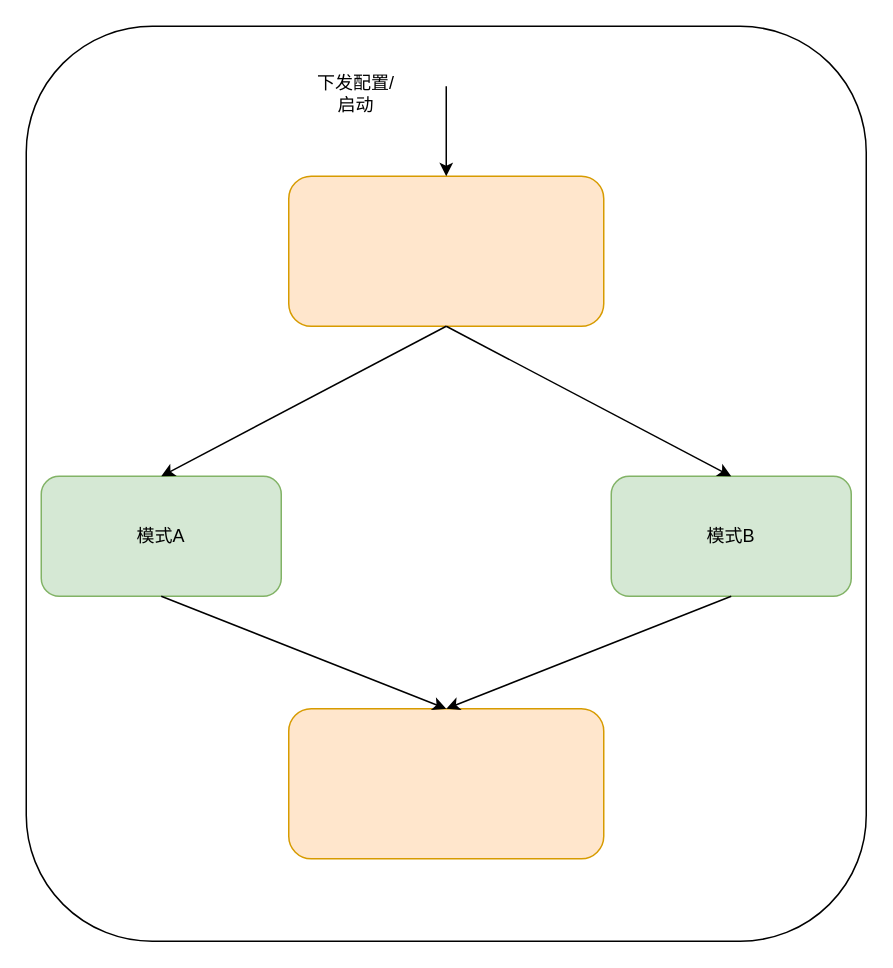
The diagram is 893 pixels wide and 968 high, and some of its shapes have lost their labels. The centre of each missing label's shape, as x and y in pixels:
统一主元逻辑: the point at 445,250
输出主元决策: the point at 445,783
